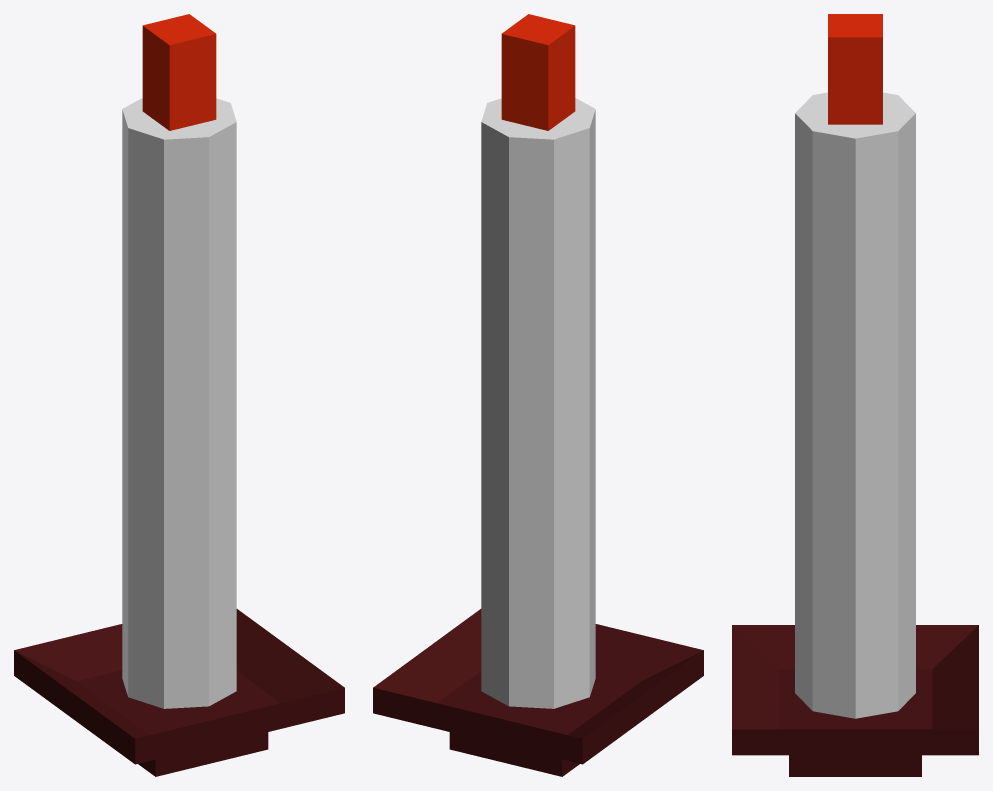
The model's file is candle.fbx.
3 views of the same model, side by side, from view 1: azimuth 30°, elevation 25°; view 2: azimuth 150°, elevation 25°; view 3: azimuth 270°, elevation 25° (orthographic).
Visible parts, largest first — view 1: 立方体; view 2: 立方体; view 3: 立方体.
Boxes of the visible parts, box(x1,y1,x2,y2) form: 立方体: box(14, 14, 344, 776); 立方体: box(373, 14, 703, 776); 立方体: box(732, 14, 978, 776).
Bounding box in the file's own units: 117 × 379 × 117.
